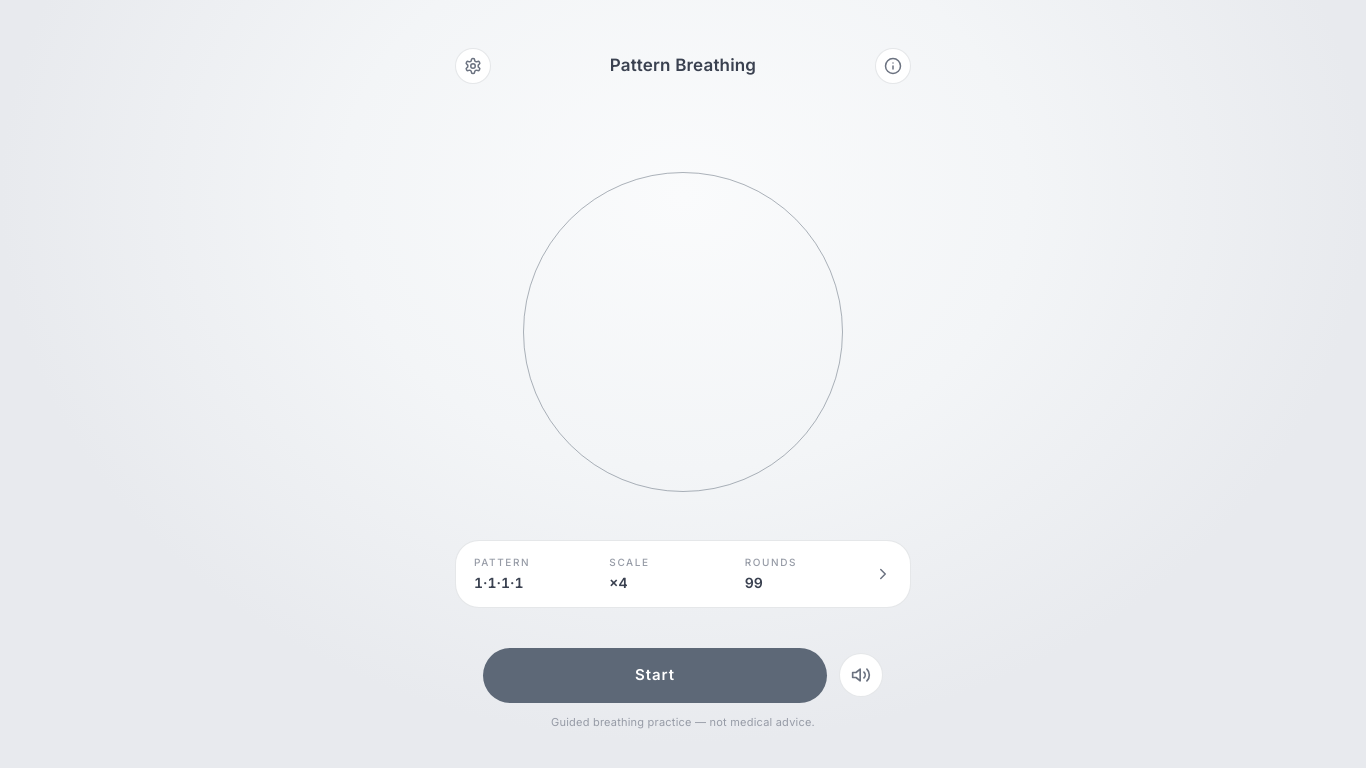
Test: main screen settings controls › steps rounds past the max to the open-ended option (FR-18a)
The width and height of the screenshot is (1366, 768).
Click the button "Pattern 1·1·1·1 Scale ×4 Rounds 99" at (502, 562), box [455,540,911,608]
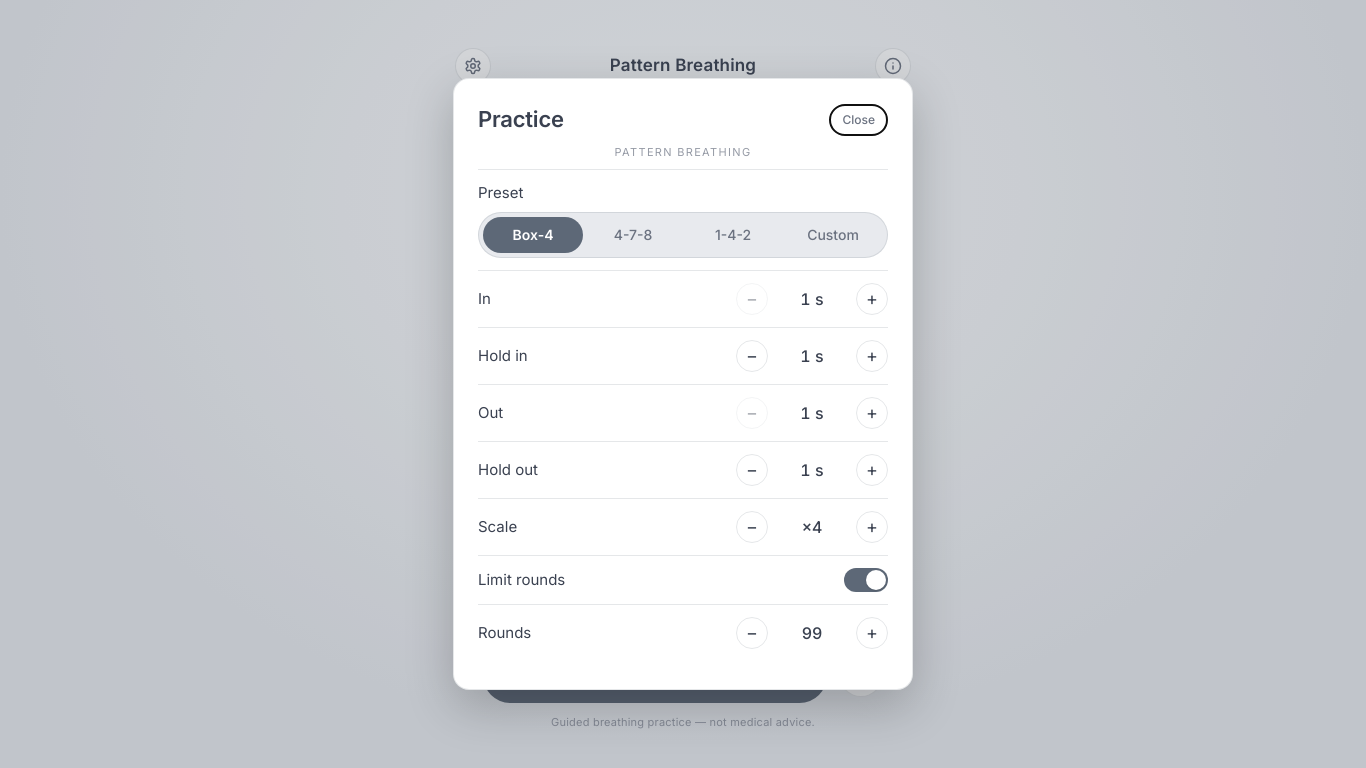
Expected: the text "99" is shown, [802,623,822,643]
Click the button named "increase rounds" at (872, 633), box [856,617,888,649]
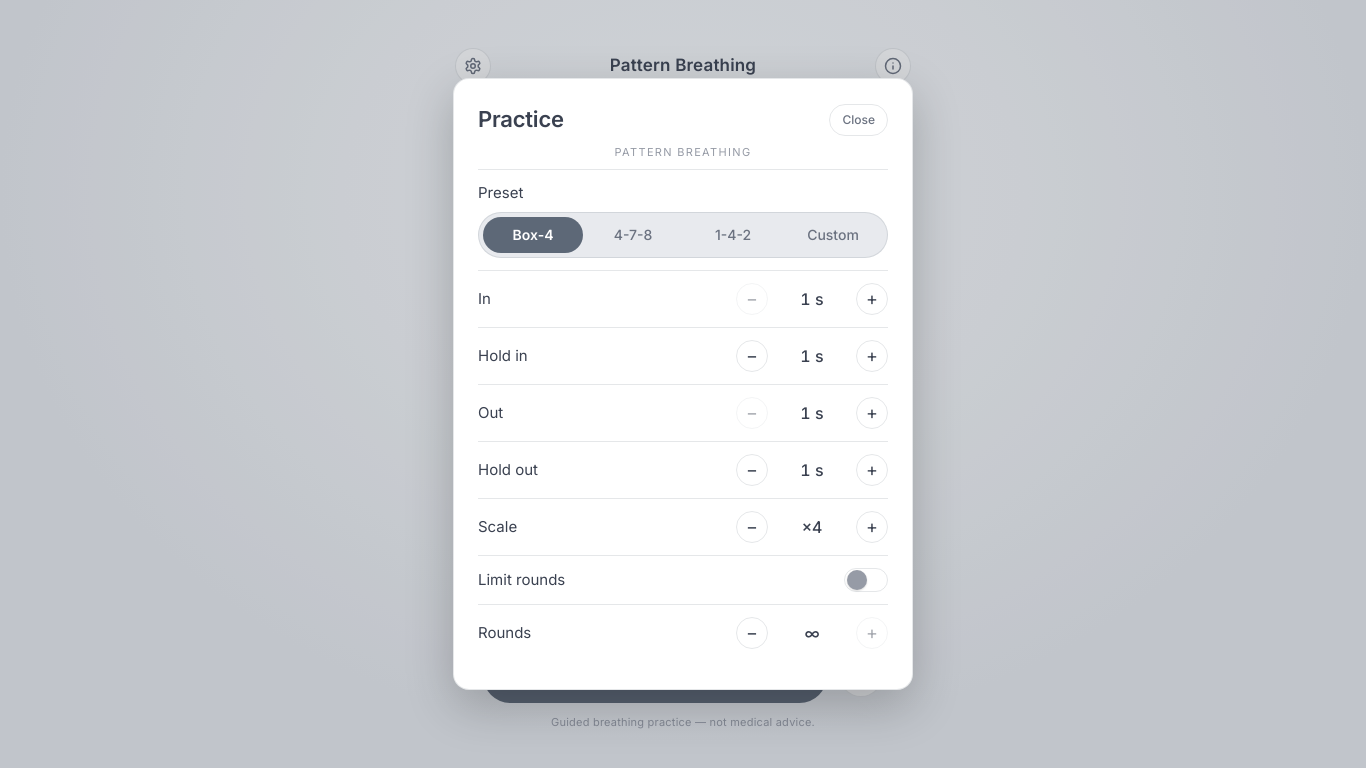
Expected: the text "∞" is shown, [804,623,820,643]
